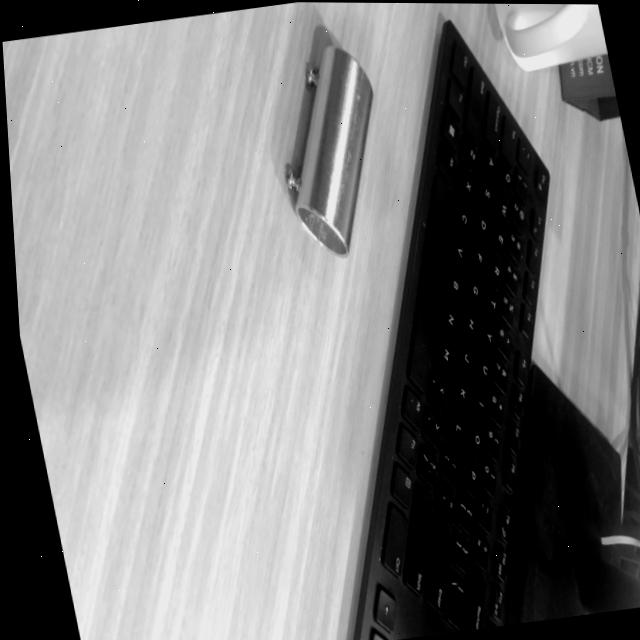Co_Lon: (274, 40, 379, 258)
